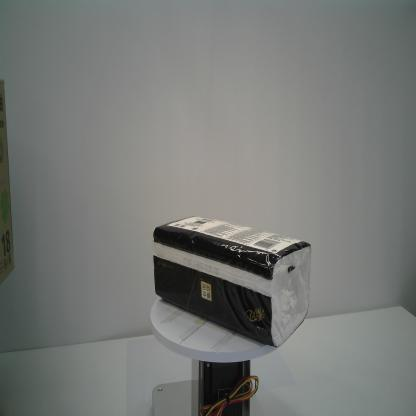Tissue: (151, 214, 312, 348)
